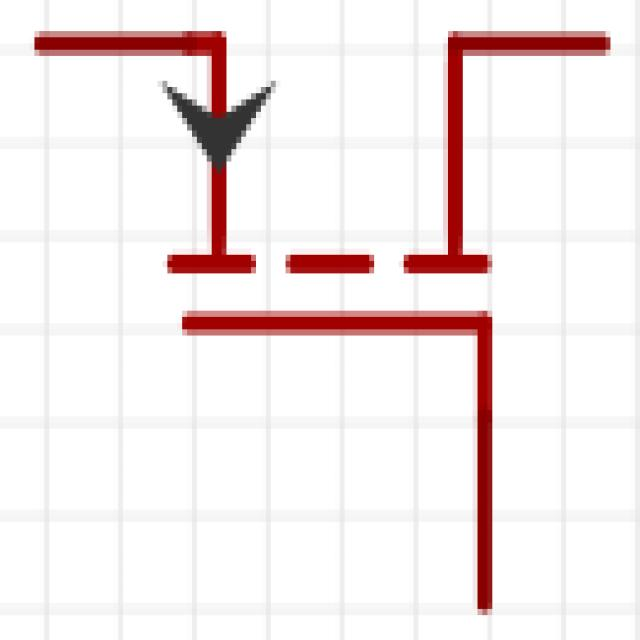nmos: (22, 10, 605, 607)
